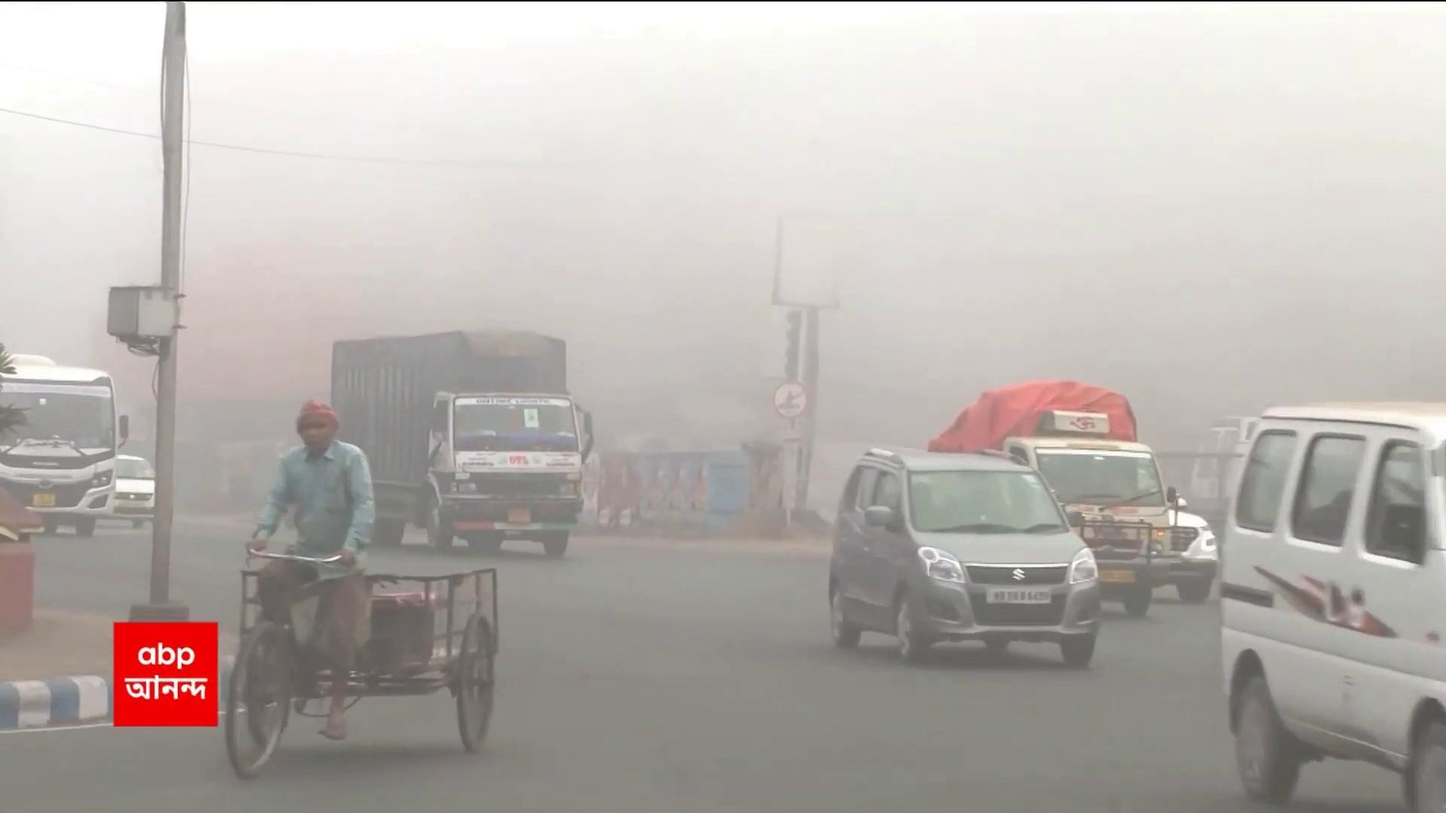Bus: (0, 349, 123, 544)
Car: (1220, 400, 1446, 804), (825, 445, 1103, 668)
Truck: (326, 326, 583, 557), (941, 379, 1219, 591)
